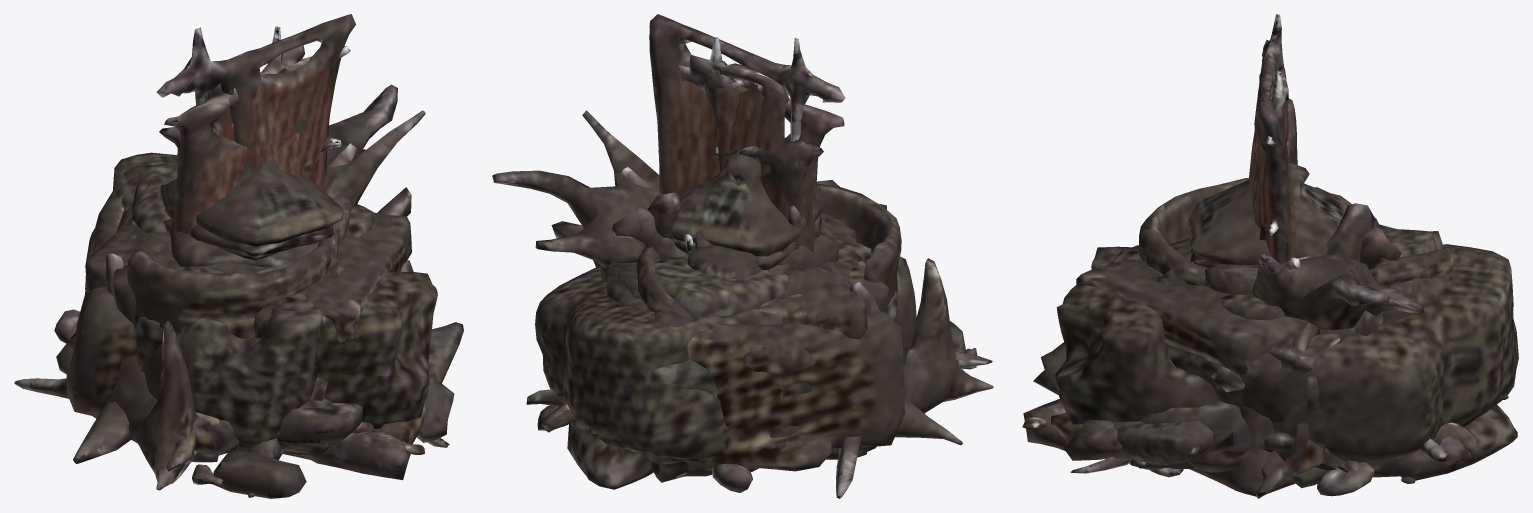
File: terrain-cinder-span-props.glb
3 views of the same model, side by side, from view 1: azimuth 30°, elevation 25°; view 2: azimuth 150°, elevation 25°; view 3: azimuth 270°, elevation 25° (orthographic).
Parts seen in each view (by area): view 1: terrain-cinder-span-prop-044, terrain-cinder-span-prop-048, terrain-cinder-span-prop-019, terrain-cinder-span-prop-005, terrain-cinder-span-prop-004, terrain-cinder-span-prop-002, terrain-cinder-span-prop-022, terrain-cinder-span-prop-011, terrain-cinder-span-prop-027, terrain-cinder-span-prop-008, terrain-cinder-span-prop-045, terrain-cinder-span-prop-035 (+11 smaller); view 2: terrain-cinder-span-prop-044, terrain-cinder-span-prop-004, terrain-cinder-span-prop-019, terrain-cinder-span-prop-027, terrain-cinder-span-prop-005, terrain-cinder-span-prop-022, terrain-cinder-span-prop-011, terrain-cinder-span-prop-048, terrain-cinder-span-prop-002, terrain-cinder-span-prop-014, terrain-cinder-span-prop-039, terrain-cinder-span-prop-008 (+9 smaller); view 3: terrain-cinder-span-prop-044, terrain-cinder-span-prop-002, terrain-cinder-span-prop-027, terrain-cinder-span-prop-011, terrain-cinder-span-prop-005, terrain-cinder-span-prop-019, terrain-cinder-span-prop-004, terrain-cinder-span-prop-039, terrain-cinder-span-prop-035, terrain-cinder-span-prop-048, terrain-cinder-span-prop-028, terrain-cinder-span-prop-001 (+9 smaller).
Part boxes in pixels (box(x1,y1,x2,y2)): terrain-cinder-span-prop-044: box(112, 152, 437, 454); terrain-cinder-span-prop-048: box(131, 161, 322, 459); terrain-cinder-span-prop-019: box(156, 14, 355, 188); terrain-cinder-span-prop-005: box(85, 161, 374, 433); terrain-cinder-span-prop-004: box(56, 164, 463, 444); terrain-cinder-span-prop-002: box(85, 212, 411, 459); terrain-cinder-span-prop-022: box(14, 187, 411, 490); terrain-cinder-span-prop-011: box(163, 158, 343, 255); terrain-cinder-span-prop-027: box(73, 84, 425, 471); terrain-cinder-span-prop-008: box(164, 26, 350, 235); terrain-cinder-span-prop-045: box(54, 309, 306, 498); terrain-cinder-span-prop-035: box(134, 270, 401, 484); terrain-cinder-span-prop-044: box(535, 213, 888, 462); terrain-cinder-span-prop-004: box(649, 309, 904, 482); terrain-cinder-span-prop-019: box(649, 14, 845, 194); terrain-cinder-span-prop-027: box(492, 110, 992, 445); terrain-cinder-span-prop-005: box(636, 183, 901, 438); terrain-cinder-span-prop-022: box(551, 221, 993, 498); terrain-cinder-span-prop-011: box(672, 150, 824, 256); terrain-cinder-span-prop-048: box(655, 203, 916, 365); terrain-cinder-span-prop-002: box(630, 180, 867, 459); terrain-cinder-span-prop-014: box(689, 55, 789, 175); terrain-cinder-span-prop-039: box(567, 267, 653, 489); terrain-cinder-span-prop-008: box(679, 37, 844, 252); terrain-cinder-span-prop-044: box(1022, 244, 1518, 468); terrain-cinder-span-prop-002: box(1076, 238, 1452, 496); terrain-cinder-span-prop-027: box(1252, 253, 1423, 330); terrain-cinder-span-prop-011: box(1186, 162, 1351, 265); terrain-cinder-span-prop-005: box(1138, 178, 1456, 477); terrain-cinder-span-prop-019: box(1248, 14, 1295, 262); terrain-cinder-span-prop-004: box(1051, 248, 1479, 496); terrain-cinder-span-prop-039: box(1023, 274, 1517, 488); terrain-cinder-span-prop-035: box(1129, 278, 1435, 469); terrain-cinder-span-prop-048: box(1091, 224, 1443, 455); terrain-cinder-span-prop-028: box(1070, 203, 1374, 498); terrain-cinder-span-prop-001: box(1064, 376, 1476, 467).
Bounding box in the file's own units: 0.2416 × 0.2244 × 0.2586.
Materials: 1 (1 with a texture image).
